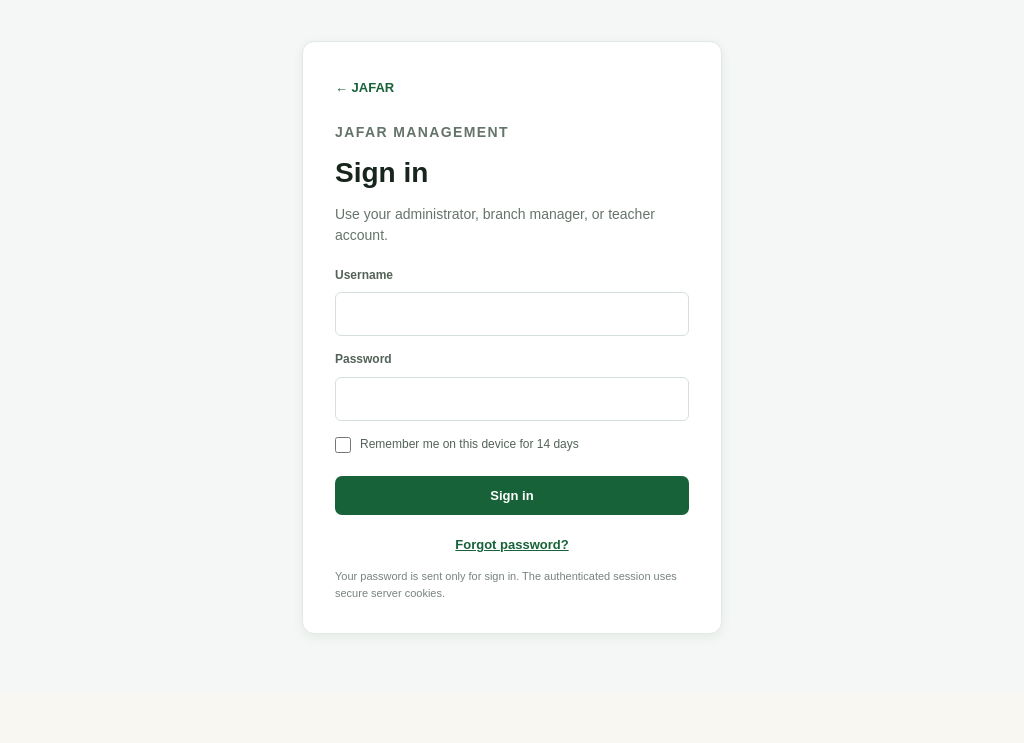
Role-based navigation › Administrator sees Teachers, Branches, Teacher Attendance and Users
The width and height of the screenshot is (1024, 743).
Expected: the heading "Sign in" is shown, left=335, top=157, right=428, bottom=188
Type "admin" into the field labelled "Username" at point(512, 314), box left=335, top=292, right=689, bottom=336
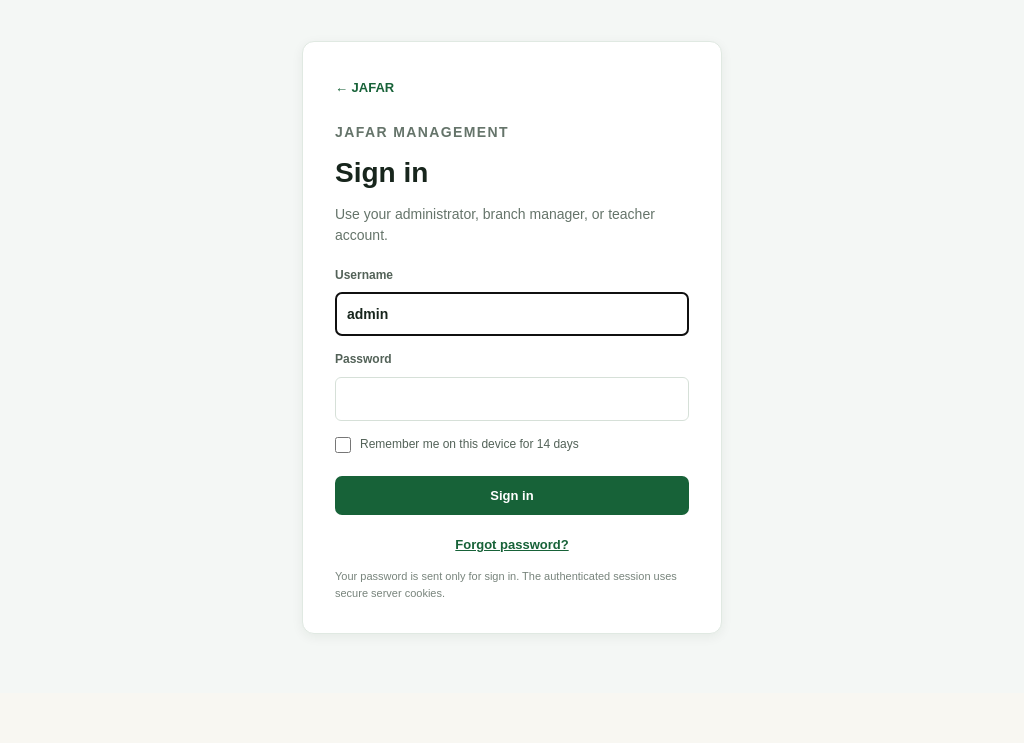
Type "admin1234" into the password field labelled "Password" at point(512, 399), box left=335, top=377, right=689, bottom=421
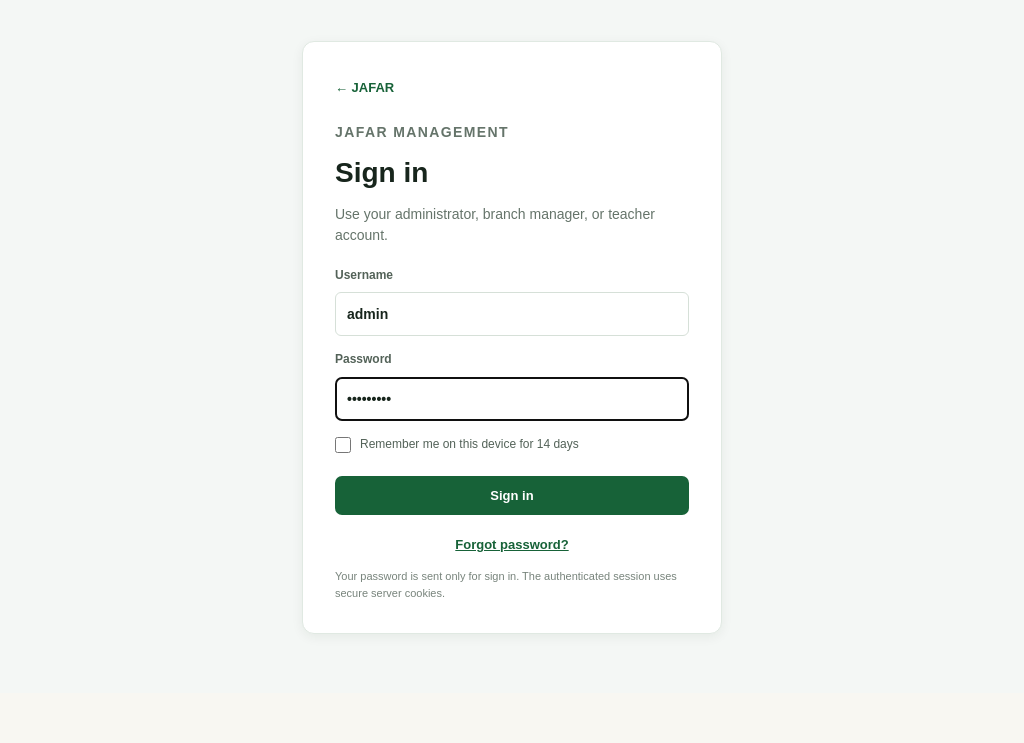
Click the button "Sign in" at point(512, 496), box left=335, top=476, right=689, bottom=515
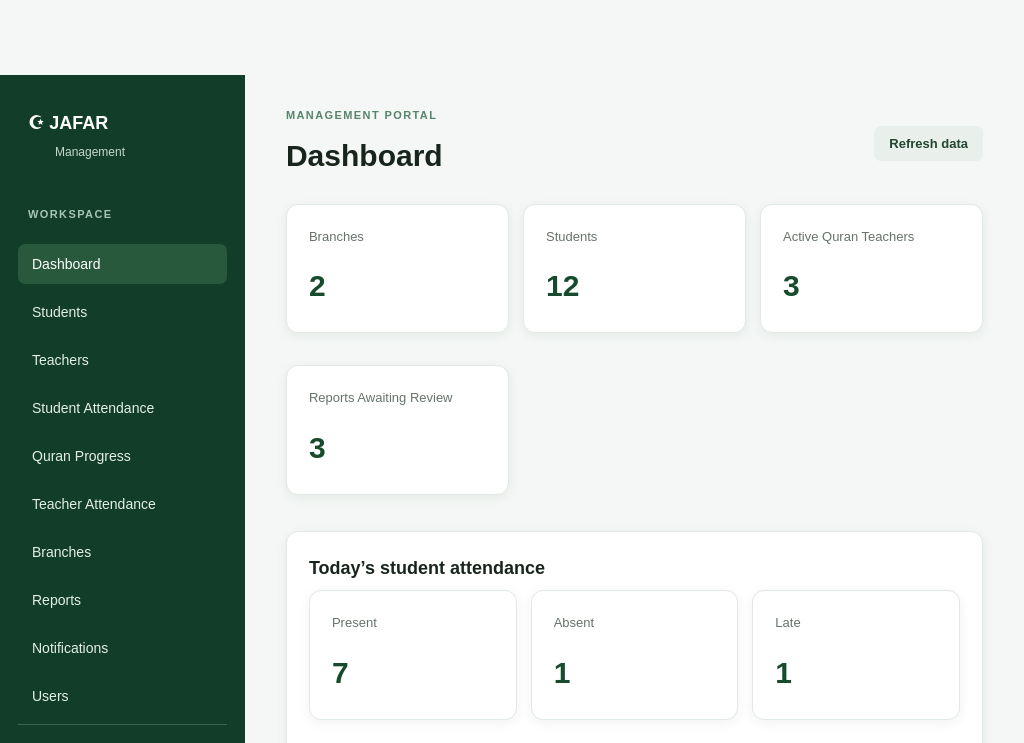
Now the heading "Dashboard" is shown, box left=286, top=132, right=443, bottom=180
Now the button "Dashboard" is shown, box left=18, top=244, right=227, bottom=284
Now the button "Students" is shown, box left=18, top=292, right=227, bottom=332
